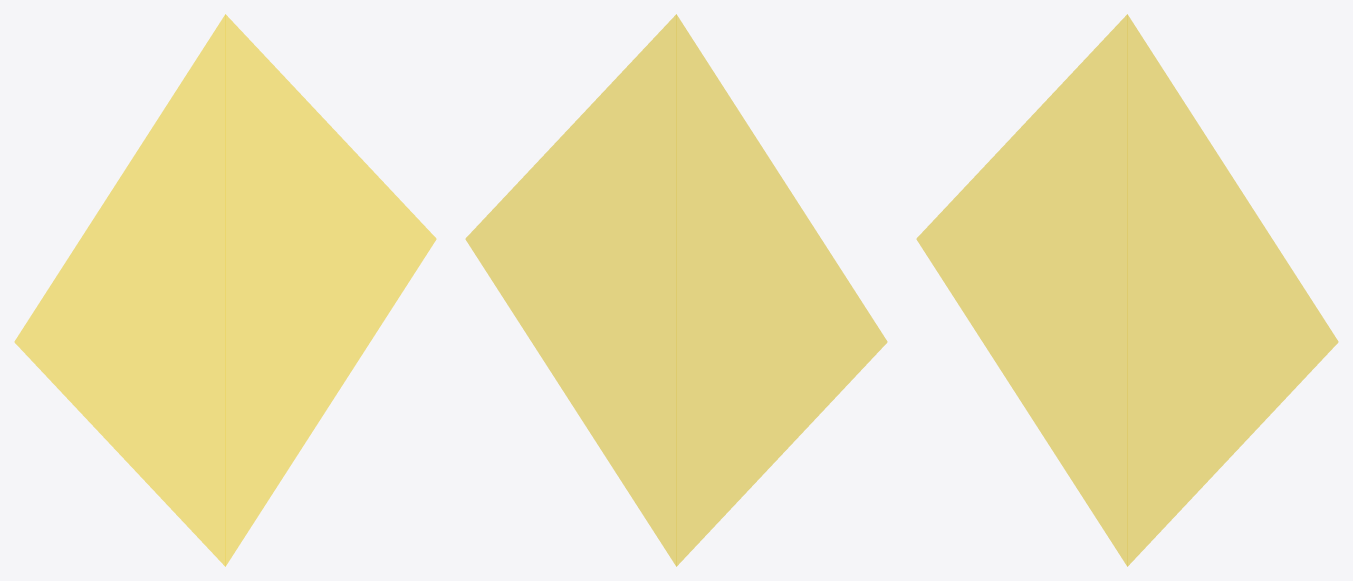
File: Bài 7.18.glb
3 renders of one model, left to right at view 1: azimuth 30°, elevation 25°; view 2: azimuth 150°, elevation 25°; view 3: azimuth 330°, elevation 25°, orthographic.
Parts seen in each view (by area): view 1: Mesh_31; view 2: Mesh_31; view 3: Mesh_31.
Boxes of the visible parts, left/top/right/bottom form: Mesh_31: left=14, top=14, right=436, bottom=566; Mesh_31: left=465, top=14, right=887, bottom=566; Mesh_31: left=916, top=14, right=1338, bottom=566.
Size of what is drawn, in the model's own units: 1.6 by 2 by 0.
